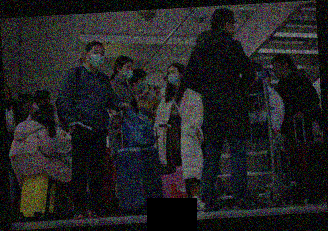with_mask: (88, 47, 106, 68), (120, 63, 135, 79), (166, 69, 181, 85), (135, 75, 147, 91), (37, 98, 51, 111)
without_mask: (271, 63, 284, 78), (230, 20, 238, 36), (5, 88, 11, 105)
